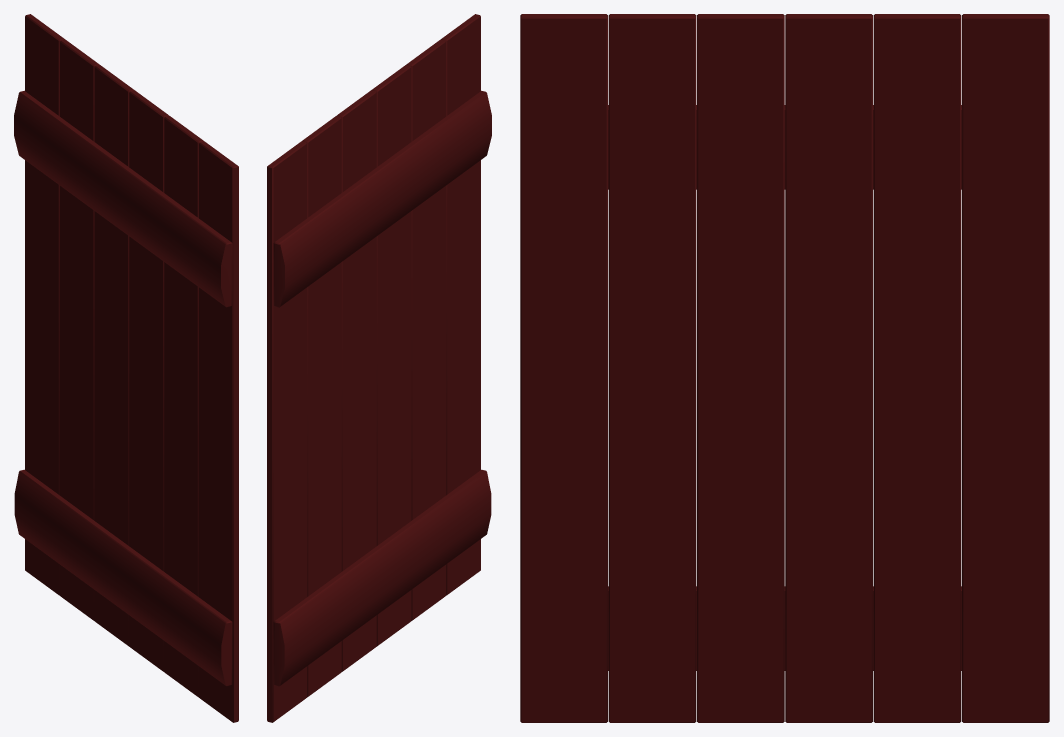
The model's file is FairyTale317.gltf.
The picture shows the model from 3 angles, left to right: view 1: azimuth 30°, elevation 25°; view 2: azimuth 150°, elevation 25°; view 3: azimuth 270°, elevation 25°; orthographic projection. The views are drawn at different scales.
Parts seen in each view (by area): view 1: Tavern_WoodDark001; view 2: Tavern_WoodDark001; view 3: Tavern_WoodDark001.
Part boxes in pixels (bbox=[...]): Tavern_WoodDark001: bbox=[14, 14, 238, 722]; Tavern_WoodDark001: bbox=[267, 14, 491, 722]; Tavern_WoodDark001: bbox=[520, 14, 1049, 722].
Bounding box in the file's own units: 0.0456 × 1.36 × 0.9241.
